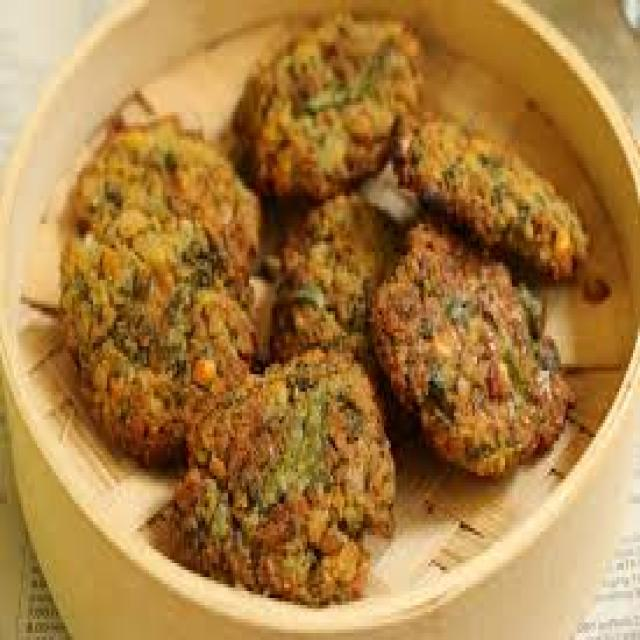parupu vadai: (61, 115, 261, 462), (165, 350, 393, 602), (372, 220, 570, 476), (235, 14, 421, 199), (391, 115, 586, 276), (270, 192, 398, 371)
